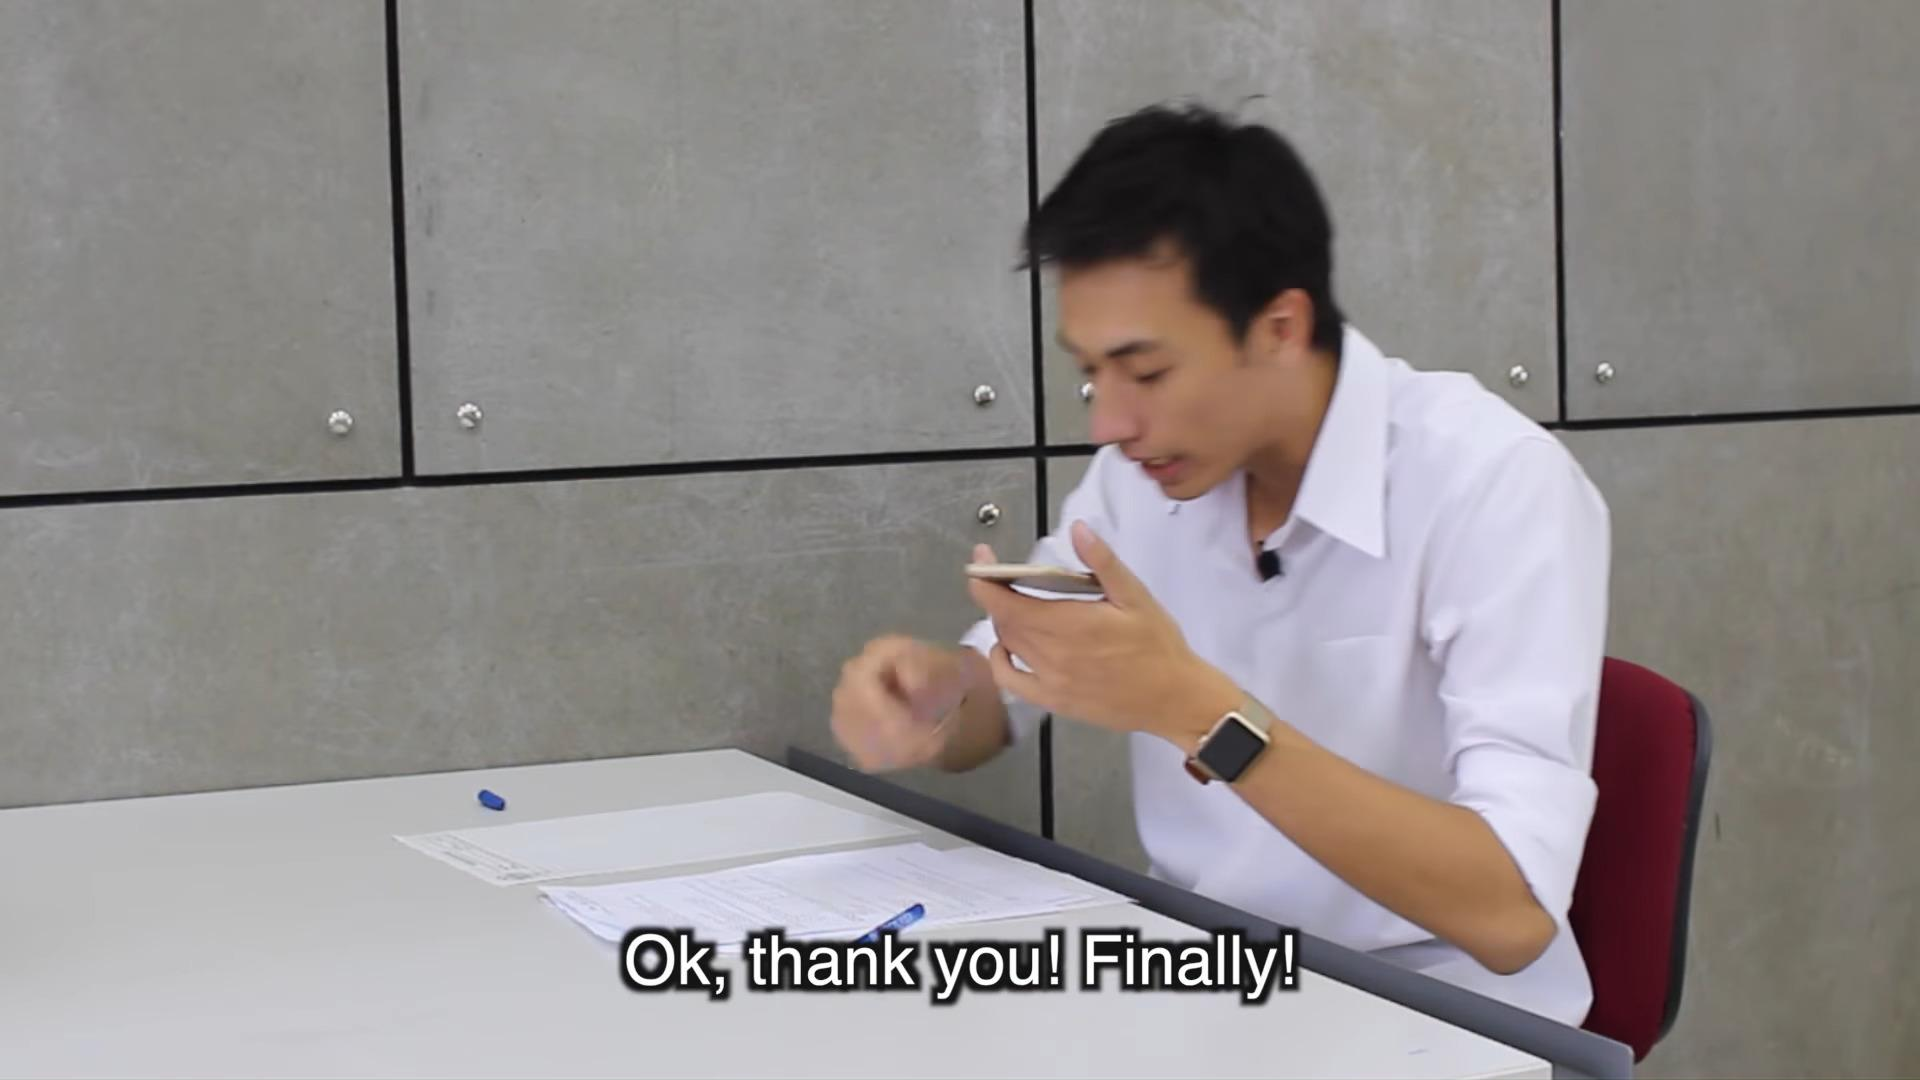cheating: (363, 73, 1635, 922)
